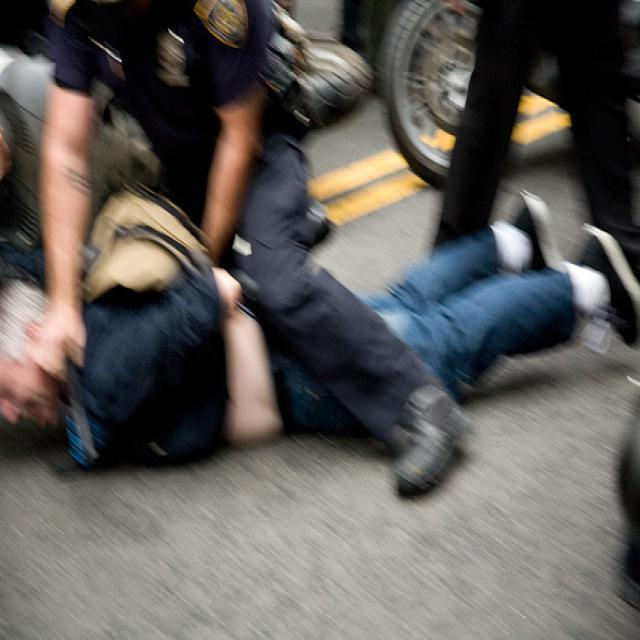motor: (377, 1, 479, 177)
